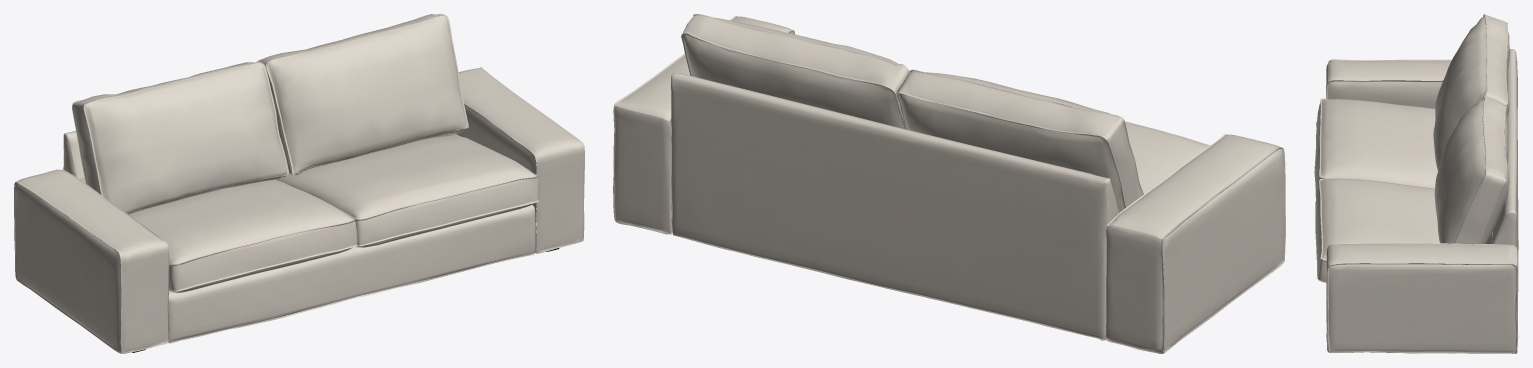
File: 07 - KIVIK - 三人座沙發，Tresund 淺米色 IKEA 線上購物.glb
3 renders of one model, left to right at view 1: azimuth 30°, elevation 25°; view 2: azimuth 150°, elevation 25°; view 3: azimuth 270°, elevation 25°, orthographic. The views are drawn at different scales.
Parts seen in each view (by area): view 1: Mesh_0; view 2: Mesh_0; view 3: Mesh_0.
Part boxes in pixels (x1,y1,x2,y2): Mesh_0: (14, 14, 584, 353); Mesh_0: (613, 14, 1285, 353); Mesh_0: (1314, 14, 1518, 353).
Size of the model in its own units: 2.28 by 0.8576 by 0.9571.
Materials: 1 (1 with a texture image).
